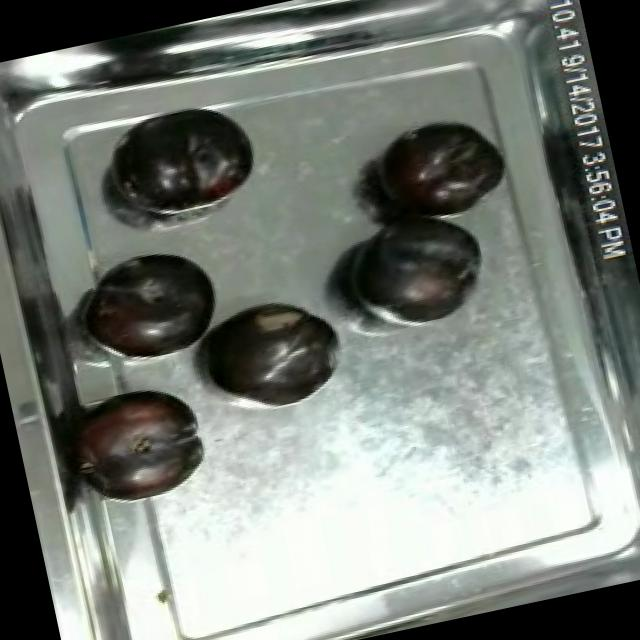Fruit: (325, 196, 497, 334), (60, 372, 224, 513), (186, 281, 352, 417), (106, 92, 270, 226), (76, 242, 234, 374), (361, 102, 519, 233)
